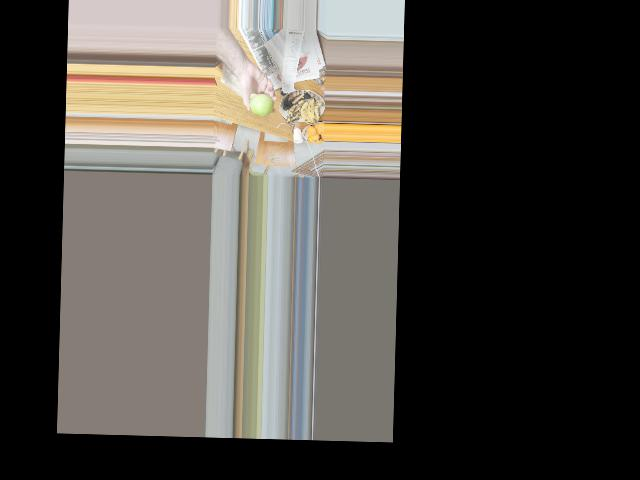apple: (247, 90, 273, 118)
